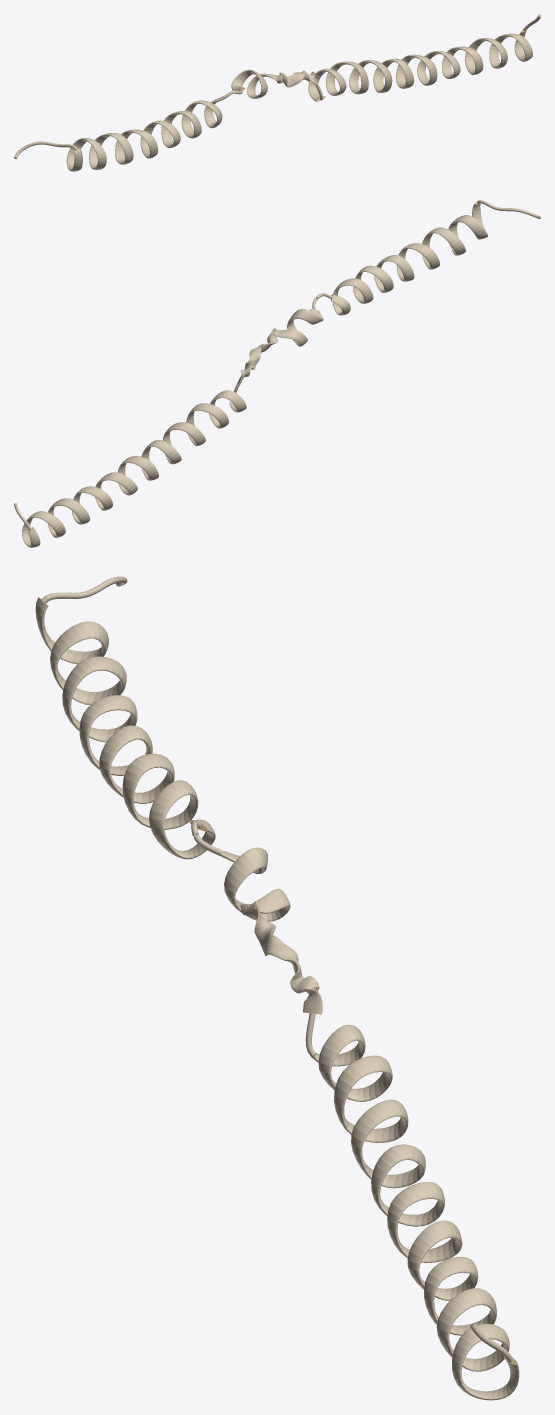
File: HelixfCoilHelix.dae
3 renders of one model, top to bottom at view 1: azimuth 30°, elevation 25°; view 2: azimuth 210°, elevation 25°; view 3: azimuth 270°, elevation 25°, orthographic. The views are drawn at different scales.
Visible parts, largest first — view 1: Shape_IndexedTriangleStripSet_078; view 2: Shape_IndexedTriangleStripSet_078; view 3: Shape_IndexedTriangleStripSet_078.
Boxes of the visible parts, x1=… form: Shape_IndexedTriangleStripSet_078: x1=14, y1=14, x2=540, y2=171; Shape_IndexedTriangleStripSet_078: x1=14, y1=200, x2=540, y2=547; Shape_IndexedTriangleStripSet_078: x1=35, y1=576, x2=519, y2=1400.
Bounding box in the file's own units: 114 × 38.74 × 22.9.
